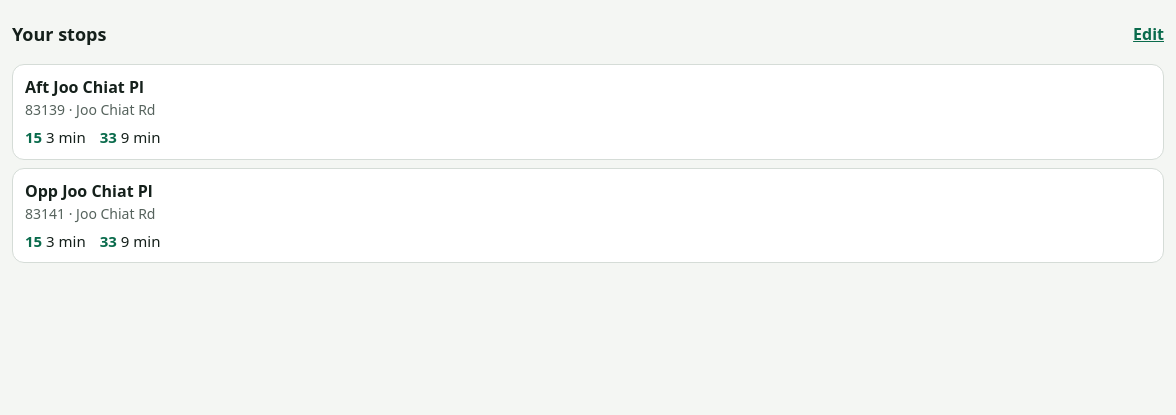
Test case: FavouritesPanel › editing › counts saved stops against the limit
What coordinates should you click on to do the following:
click the button "Edit"
I would click on:
 (1149, 34)
Its box is [1133,12,1164,56].
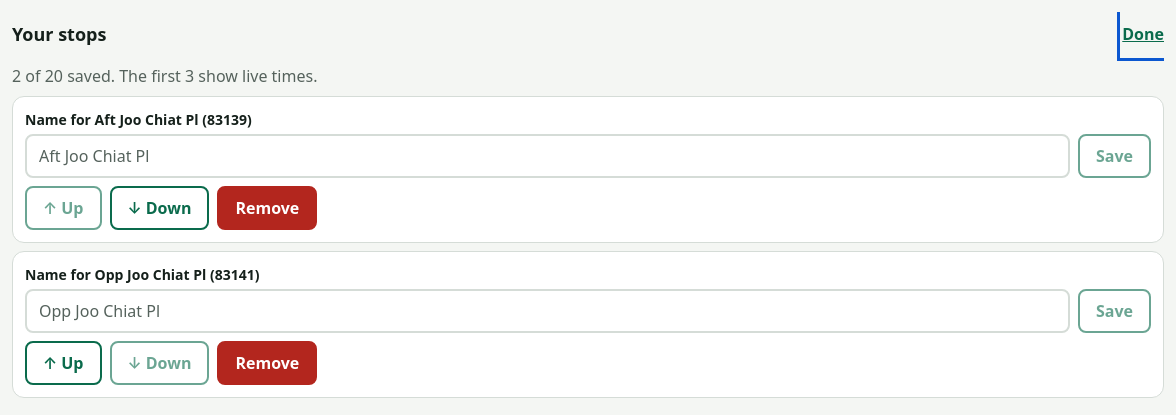
expect the text "2 of 20 saved. The first 3 show live times." is shown: met, box [12,65,317,87]
